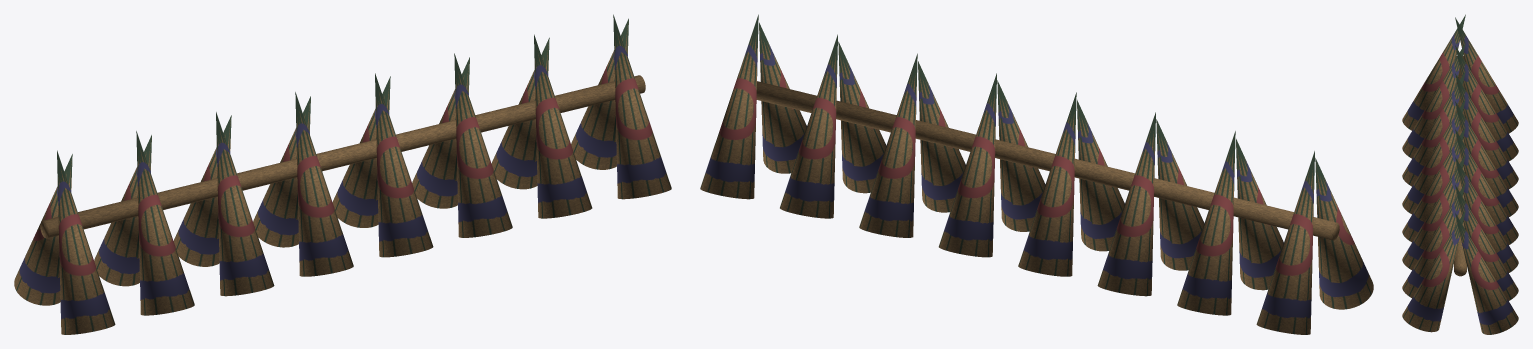
The model's file is Fence_03.fbx.
The picture shows the model from 3 angles, left to right: view 1: azimuth 30°, elevation 25°; view 2: azimuth 150°, elevation 25°; view 3: azimuth 270°, elevation 25°; orthographic projection. The views are drawn at different scales.
Visible parts, largest first — view 1: 円柱; view 2: 円柱; view 3: 円柱.
Part boxes in pixels (x1,y1,x2,y2): 円柱: [14, 14, 671, 334]; 円柱: [700, 14, 1373, 334]; 円柱: [1402, 14, 1518, 334].
Bounding box in the file's own units: 770 × 198 × 176.
